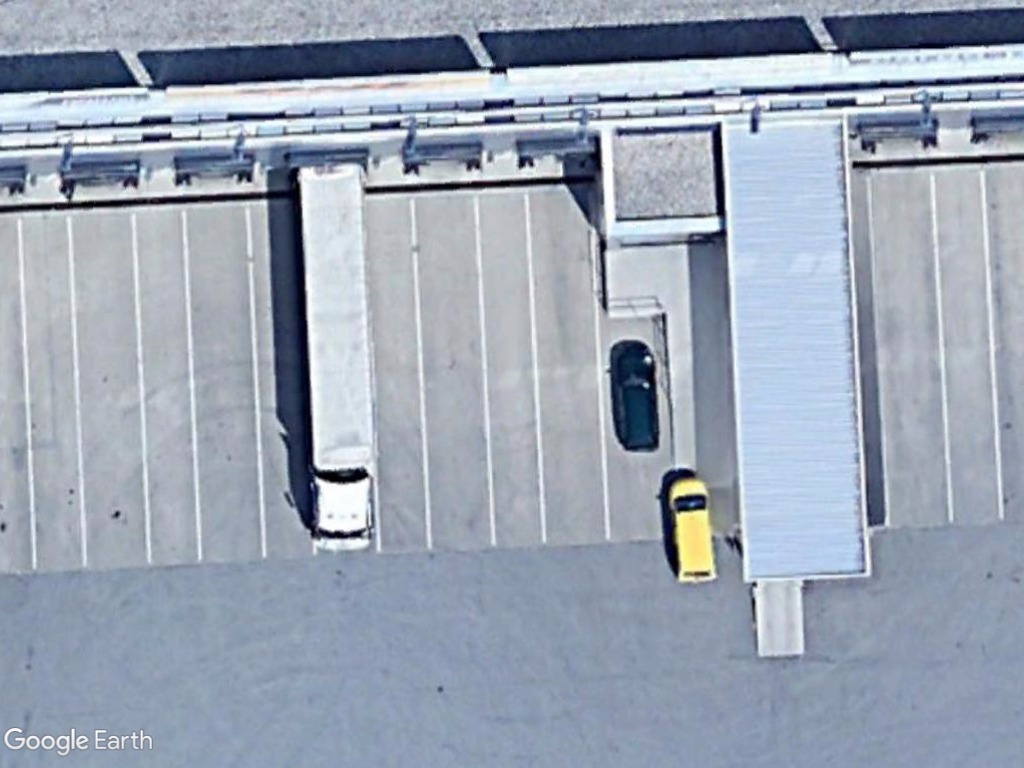truck: (291, 162, 388, 554)
van: (663, 473, 720, 587), (612, 341, 665, 458)
